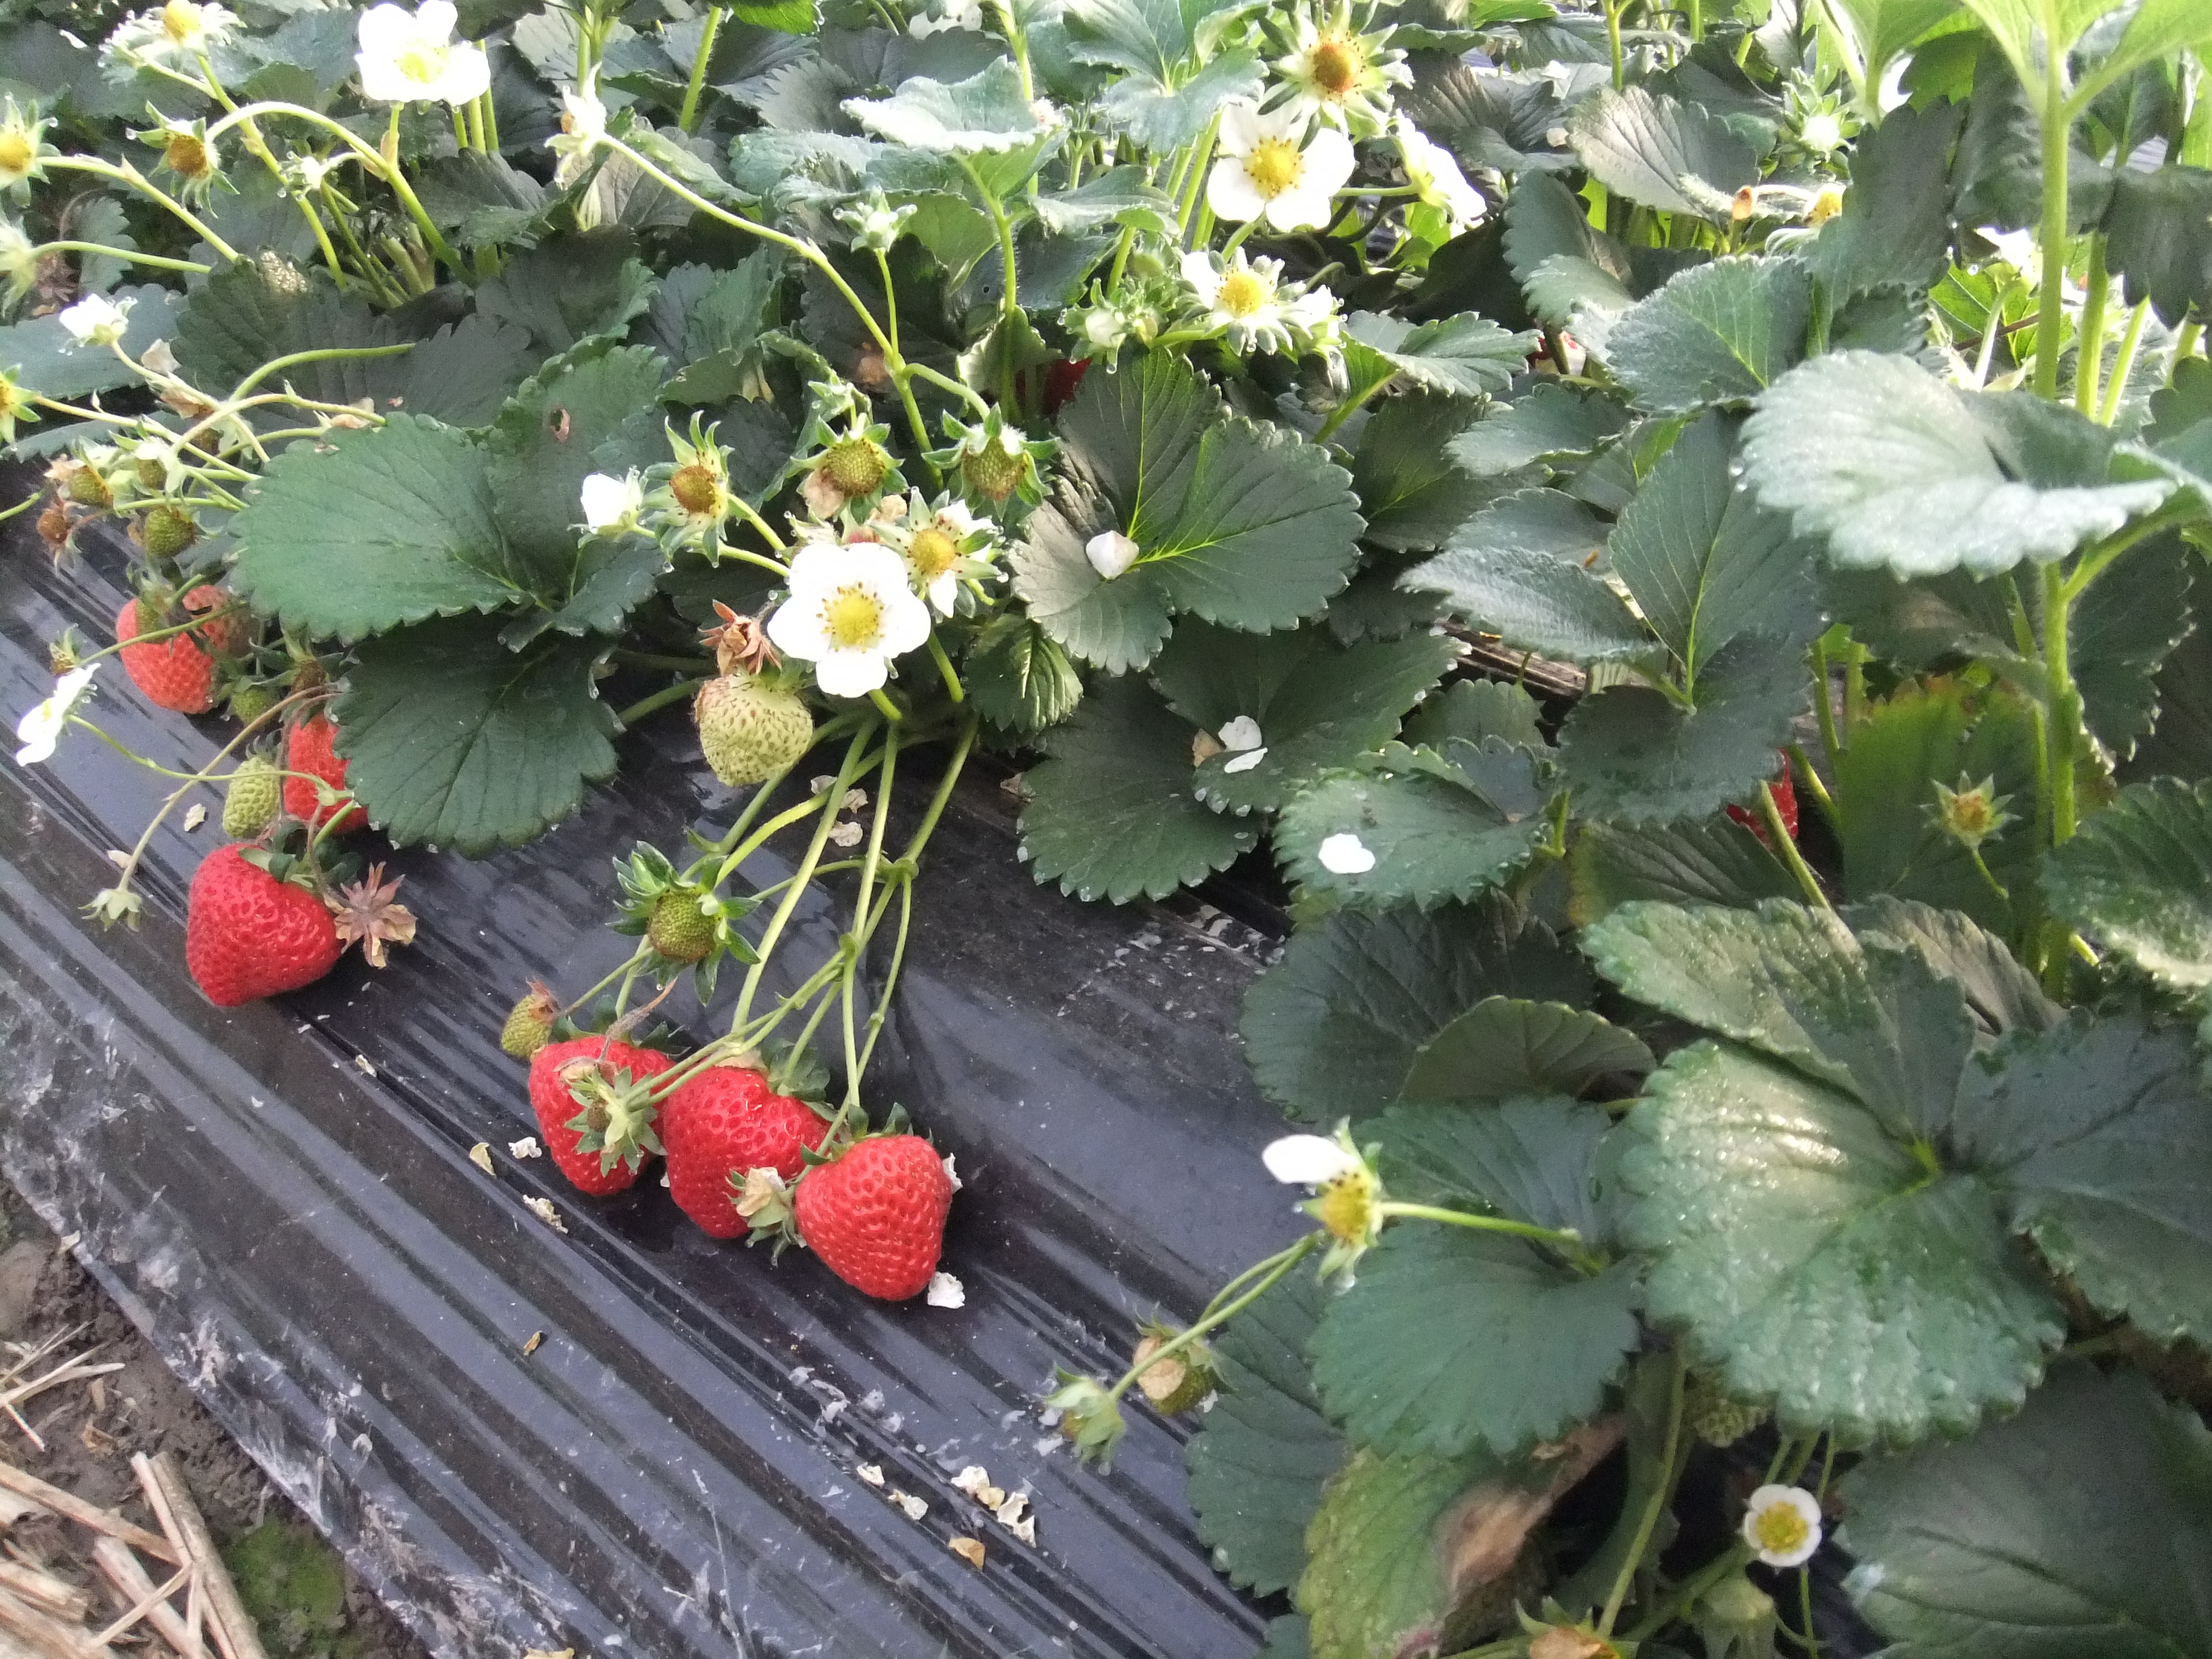StrawberryCircular: (178, 843, 354, 1012)
StrawberryCone: (658, 1060, 838, 1241), (787, 1122, 946, 1314), (523, 1042, 678, 1197)
StrawberryIrremovable: (697, 669, 813, 791), (1670, 1364, 1792, 1474), (1137, 1314, 1231, 1417), (639, 877, 740, 971), (212, 749, 286, 838), (958, 436, 1040, 511), (813, 432, 894, 502), (664, 464, 738, 532), (495, 985, 566, 1054), (152, 112, 218, 186), (122, 502, 197, 558), (56, 448, 111, 514)
StrawberryOther: (103, 579, 263, 713), (1684, 744, 1831, 863), (277, 706, 392, 833)
StrawberryRemovable: (660, 1060, 841, 1241), (791, 1127, 949, 1310), (183, 847, 345, 1007), (526, 1037, 681, 1197), (105, 589, 260, 720), (1693, 744, 1827, 861), (277, 699, 385, 833)
